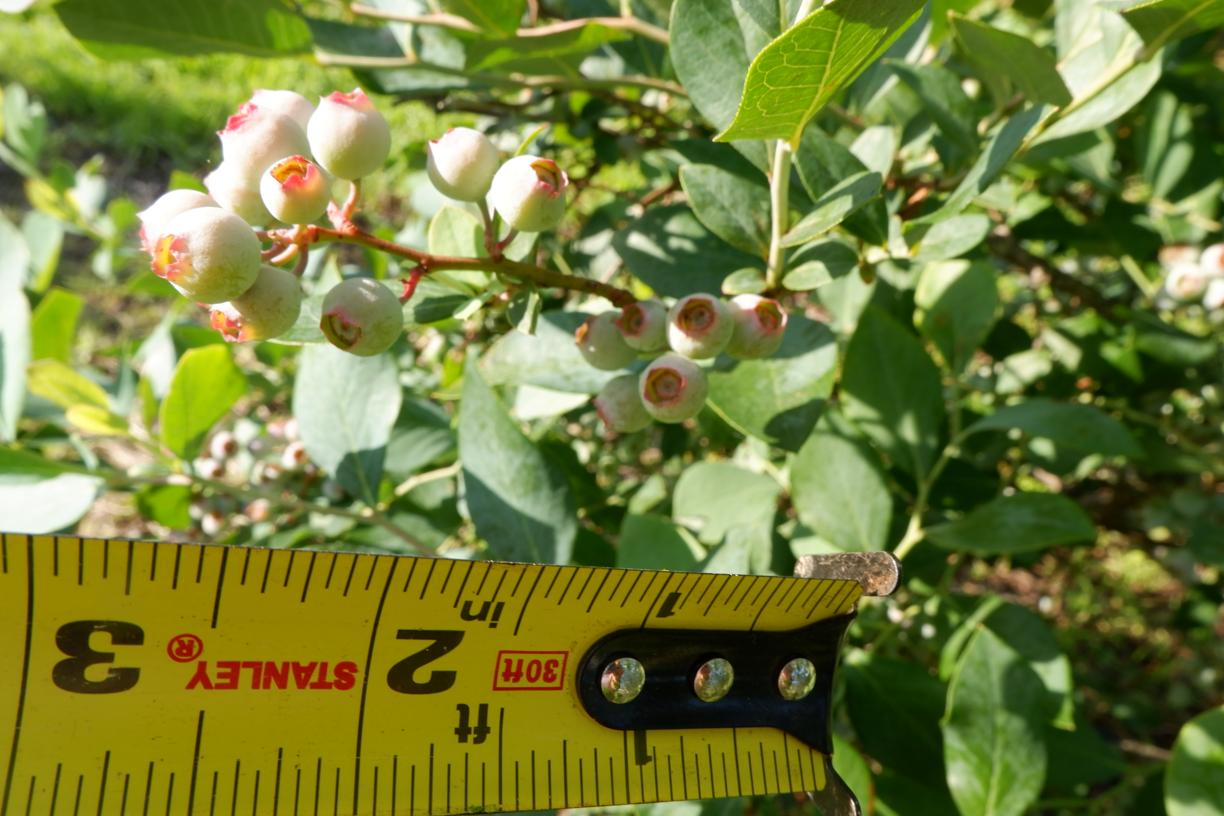Immature: (152, 206, 263, 304), (215, 101, 312, 192), (309, 86, 393, 180), (207, 263, 303, 343), (319, 276, 404, 357), (489, 155, 568, 232), (426, 128, 502, 203), (136, 188, 221, 255), (202, 160, 279, 226), (260, 155, 330, 225), (638, 353, 708, 423), (666, 292, 735, 359), (723, 294, 789, 358), (575, 311, 640, 370), (589, 375, 654, 432), (239, 89, 316, 137), (614, 300, 668, 351)
